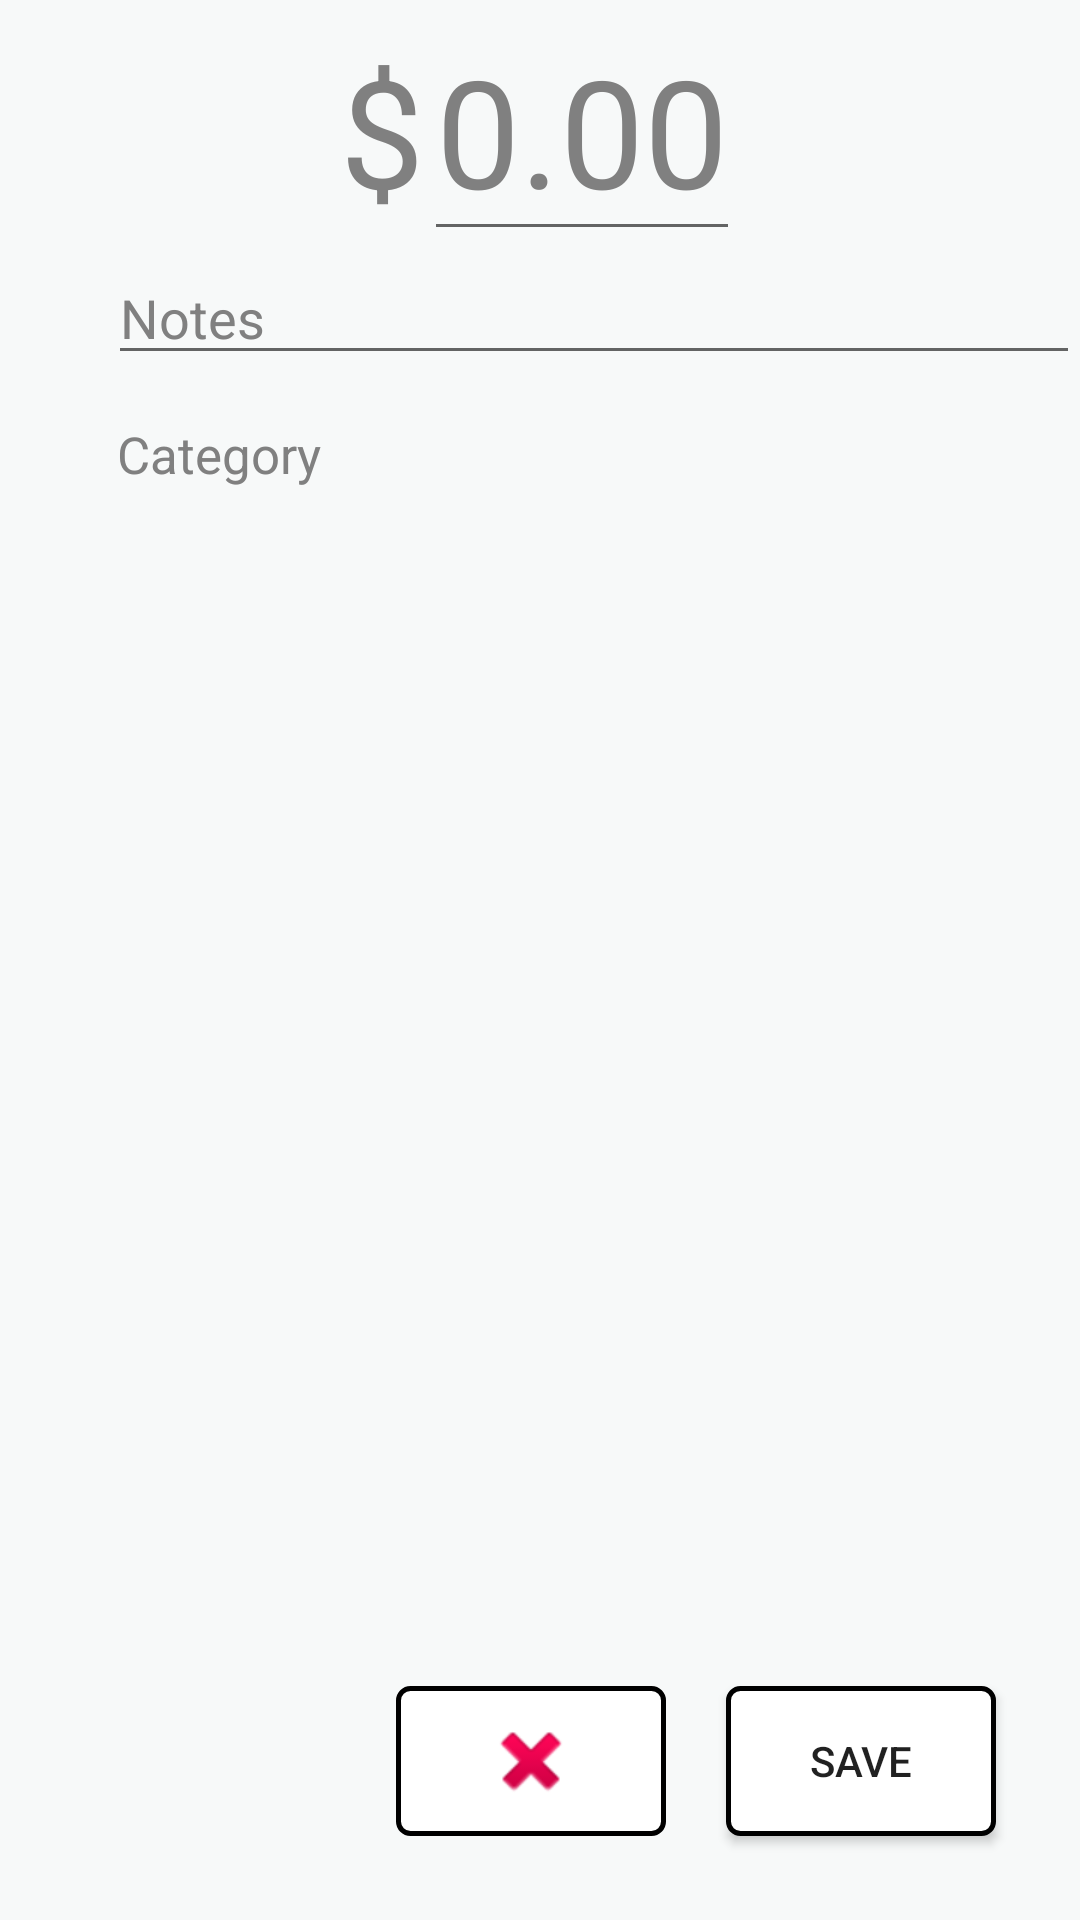

Screen size 1080px x 1920px. Icon name, then its center in pixels as (x,y):
delete: (531,1761)
